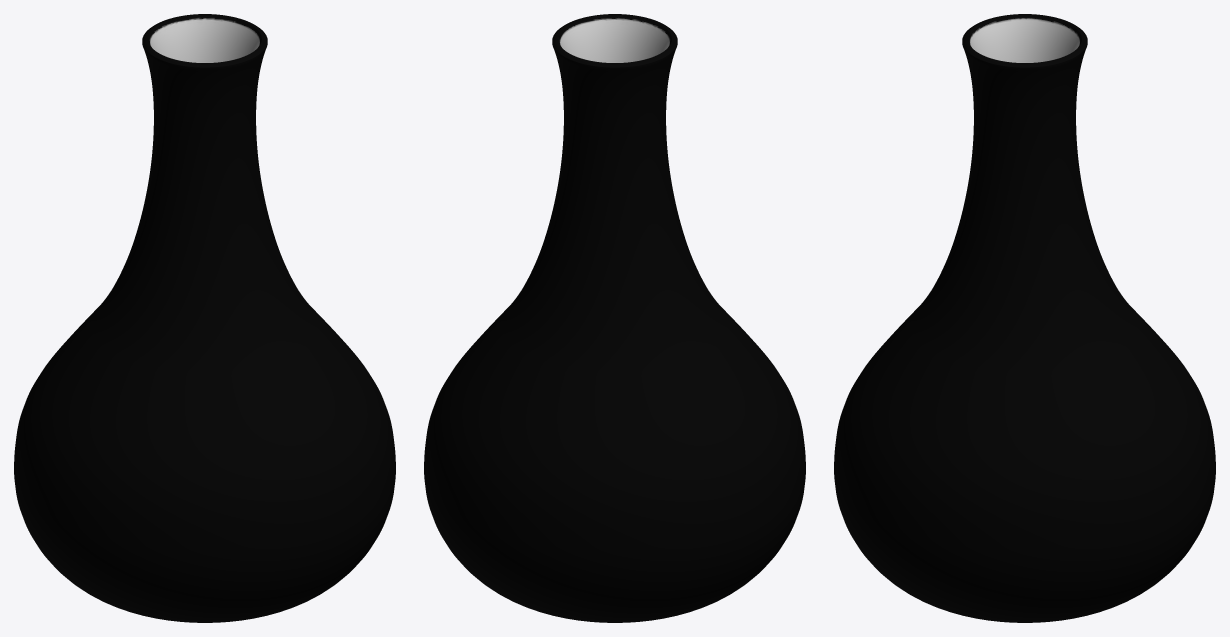
File: black_vase.glb
3 views of the same model, side by side, from view 1: azimuth 30°, elevation 25°; view 2: azimuth 150°, elevation 25°; view 3: azimuth 270°, elevation 25° (orthographic).
Parts seen in each view (by area): view 1: Vase; view 2: Vase; view 3: Vase.
Boxes of the visible parts, x1,y1,x2,y2 form: Vase: [14, 14, 395, 622]; Vase: [424, 14, 805, 622]; Vase: [834, 14, 1215, 622].
Bounding box in the file's own units: 0.2773 × 0.4355 × 0.2773.
Materials: 1 (1 with a texture image).
